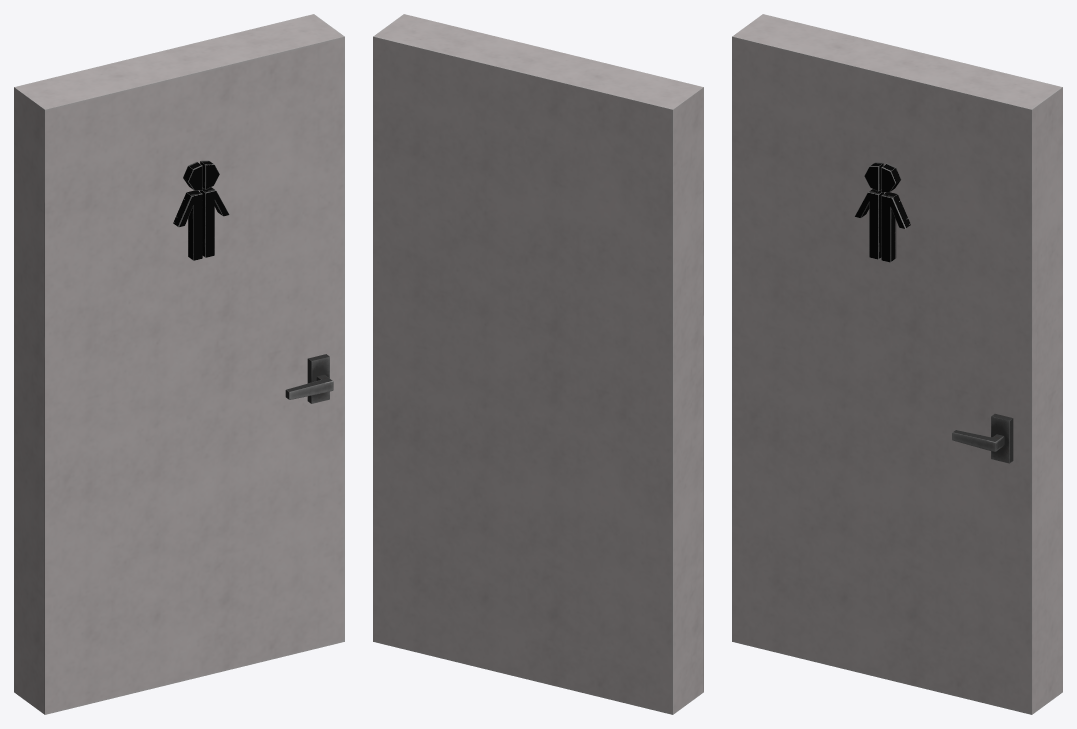
The model's file is Porta_Banheiro_M_Bar.fbx.
The picture shows the model from 3 angles, left to right: view 1: azimuth 30°, elevation 25°; view 2: azimuth 150°, elevation 25°; view 3: azimuth 330°, elevation 25°; orthographic projection.
Visible parts, largest first — view 1: Banheiro_M; view 2: Banheiro_M; view 3: Banheiro_M.
Part boxes in pixels (x1,y1,x2,y2): Banheiro_M: [14, 14, 344, 714]; Banheiro_M: [373, 14, 703, 714]; Banheiro_M: [732, 14, 1062, 714].
Size of the model in its own units: 109 by 210 by 27.27.
